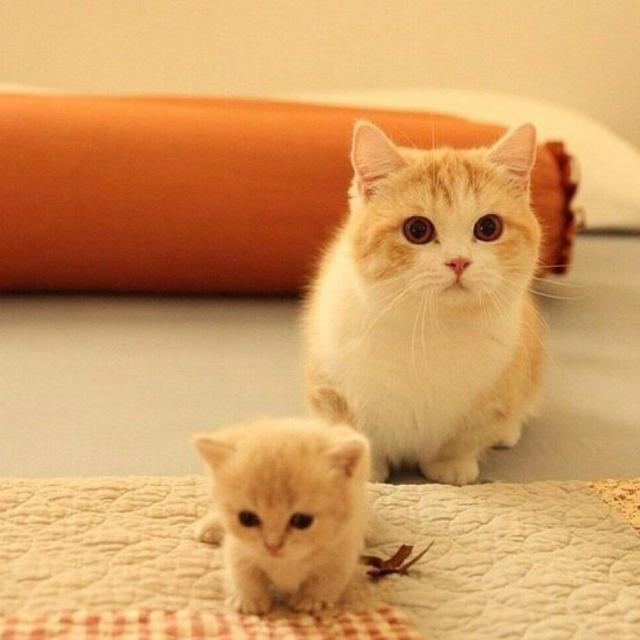Munchkin: (298, 118, 554, 491), (189, 406, 377, 622)
